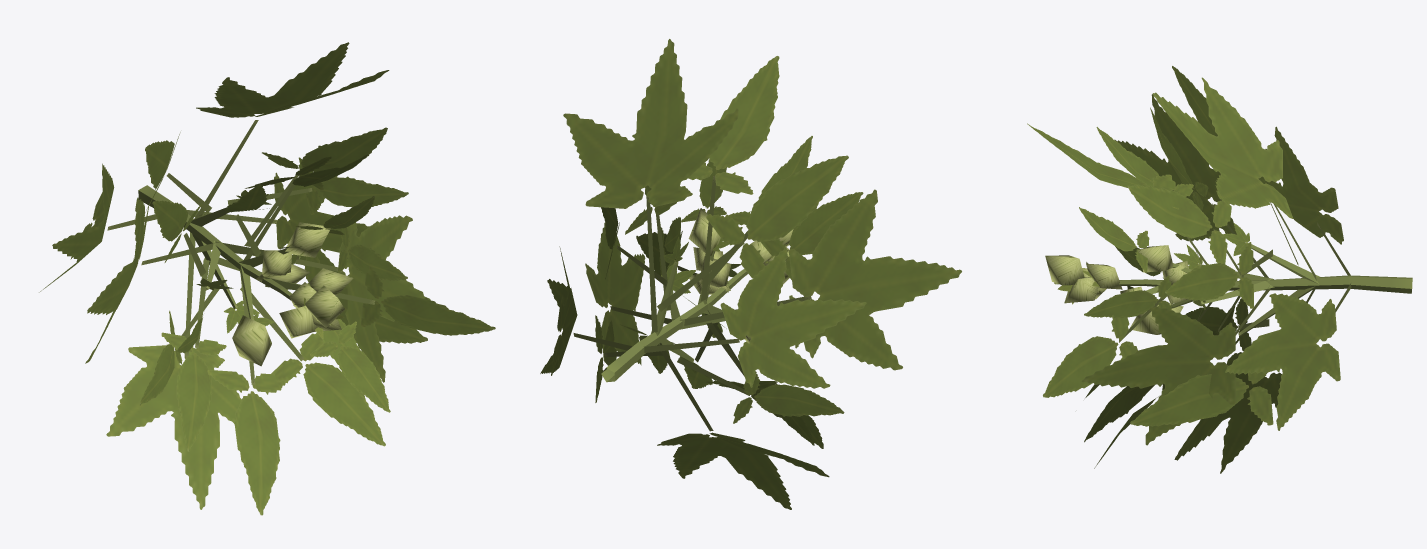
The model's file is p_male_auto_preflower_c1_cards.obj.
3 renders of one model, left to right at view 1: azimuth 30°, elevation 25°; view 2: azimuth 150°, elevation 25°; view 3: azimuth 270°, elevation 25°, orthographic. The views are drawn at different scales.
Size of the model in its own units: 1.04 by 1.25 by 0.868.
1 material, 1 textured.
